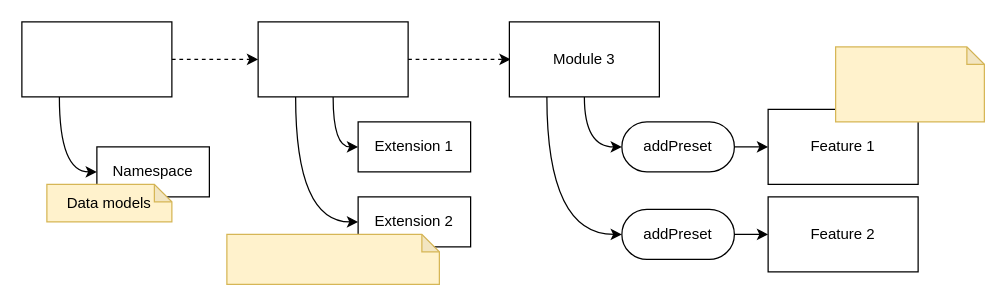
This 1006x306 diagram has some shape labels left out. Each missing label, with the centre of its shape:
any feature or refinement of existing ones: pixel 332 258
interchangeable feature for a specific use case: pixel 909 84
Module 1: pixel 96 59
Module 2: pixel 332 59
